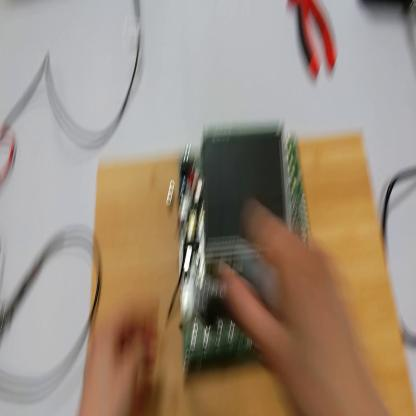hand: (217, 197, 365, 405), (79, 268, 163, 416)
low voltage board: (172, 115, 331, 377)
oscilloscope probe tip: (1, 227, 63, 336)
pliers: (289, 1, 338, 82)
screwdriver-: (180, 228, 237, 326)
working area: (96, 117, 416, 416)
